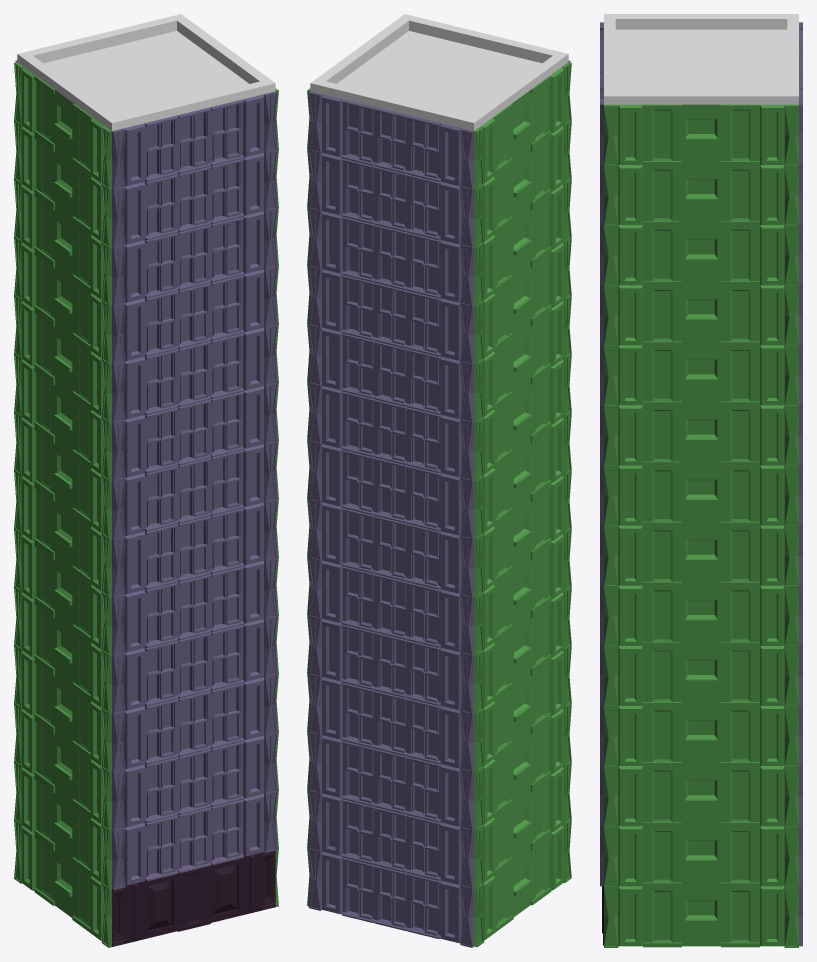
Rendered from Edificio3.FBX.
3 views of the same model, side by side, from view 1: azimuth 30°, elevation 25°; view 2: azimuth 150°, elevation 25°; view 3: azimuth 270°, elevation 25° (orthographic). The views are drawn at different scales.
Parts seen in each view (by area): view 1: Box001, Muro 110, Muro 082, Muro 086, Muro 090, Muro 098, Muro 078, Muro 094, Muro 062, Muro 070, Muro 074, Muro 102 (+17 smaller); view 2: Box001, Muro 109, Muro 097, Muro 101, Muro 105, Muro 081, Muro 093, Muro 077, Muro 085, Muro 065, Muro 069, Muro 073 (+17 smaller); view 3: Box001, Muro 137, Muro 121, Muro 123, Muro 125, Muro 111, Muro 127, Muro 129, Muro 119, Muro 113, Muro 131, Muro 117 (+5 smaller).
Part boxes in pixels (x1,y1,x2,y2): Box001: (17, 14, 275, 131); Muro 110: (112, 91, 277, 190); Muro 082: (112, 500, 277, 598); Muro 086: (112, 442, 277, 540); Muro 090: (112, 384, 277, 482); Muro 098: (112, 267, 277, 365); Muro 078: (112, 559, 277, 656); Muro 094: (112, 326, 277, 423); Muro 062: (112, 792, 277, 889); Muro 070: (112, 675, 277, 773); Muro 074: (112, 617, 277, 715); Muro 102: (112, 209, 277, 307); Box001: (310, 14, 568, 130); Muro 109: (308, 91, 473, 190); Muro 097: (308, 267, 473, 365); Muro 101: (308, 209, 473, 307); Muro 105: (308, 151, 473, 248); Muro 081: (308, 500, 473, 598); Muro 093: (308, 326, 473, 423); Muro 077: (308, 559, 473, 656); Muro 085: (308, 442, 473, 539); Muro 065: (308, 733, 473, 831); Muro 069: (308, 675, 473, 772); Muro 073: (308, 617, 473, 714); Box001: (604, 14, 798, 104); Muro 137: (604, 104, 798, 166); Muro 121: (604, 585, 798, 647); Muro 123: (604, 525, 798, 587); Muro 125: (604, 465, 798, 527); Muro 111: (604, 886, 798, 947); Muro 127: (604, 405, 798, 466); Muro 129: (604, 345, 798, 406); Muro 119: (604, 645, 798, 707); Muro 113: (604, 826, 798, 887); Muro 131: (604, 285, 798, 346); Muro 117: (604, 706, 798, 767).
Size of the model in its own units: 520 by 2404 by 520.
